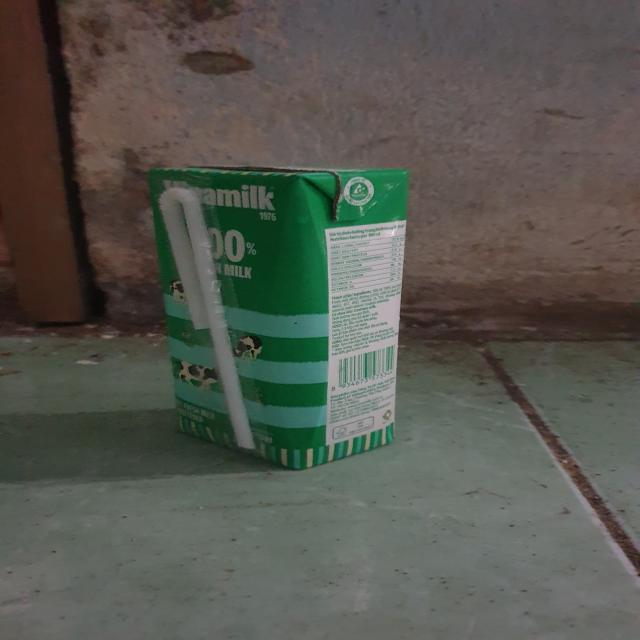Vina: (154, 163, 411, 472)
